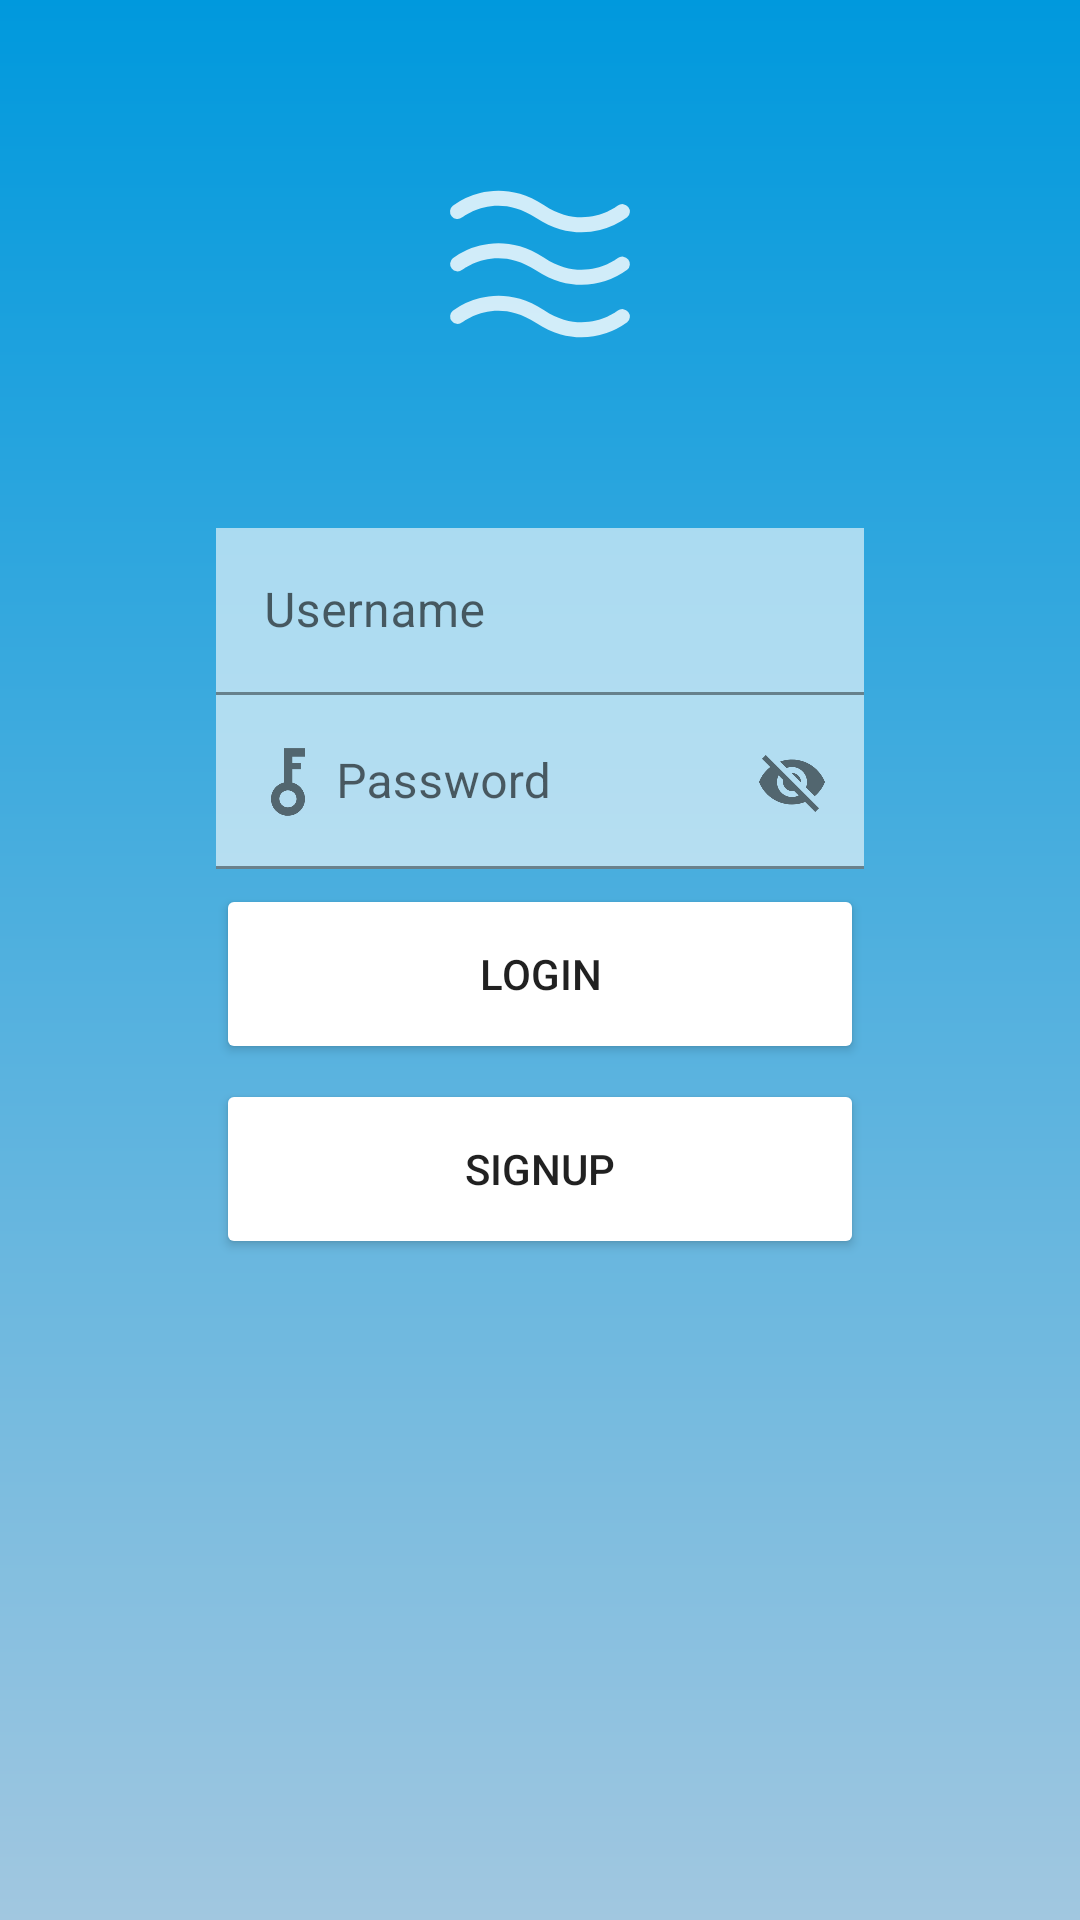

Icon click points for this 1080×1920 phone screenshot, format (x=x, y=y):
wave: (x=540, y=287)
